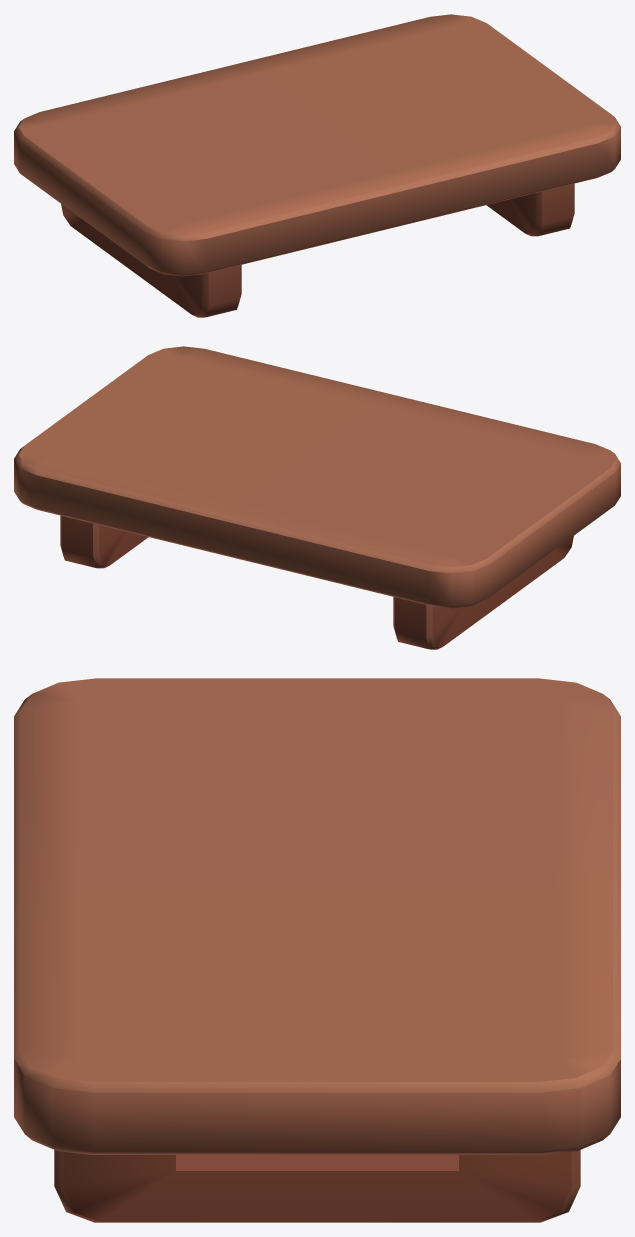
The model's file is kkf.table_low.glb.
3 views of the same model, one above another, from view 1: azimuth 30°, elevation 25°; view 2: azimuth 150°, elevation 25°; view 3: azimuth 270°, elevation 25° (orthographic). The views are drawn at different scales.
Visible parts, largest first — view 1: table_low; view 2: table_low; view 3: table_low.
Part boxes in pixels (x1,y1,x2,y2): table_low: [14, 14, 620, 317]; table_low: [14, 346, 620, 649]; table_low: [14, 678, 620, 1222].
Bounding box in the file's own units: 1.72 × 0.3576 × 1.07.
Materials: 1 (1 with a texture image).
